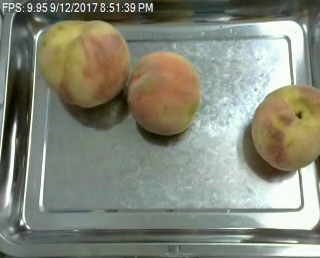Peach: (36, 18, 129, 108), (125, 50, 201, 135), (251, 83, 319, 172)
